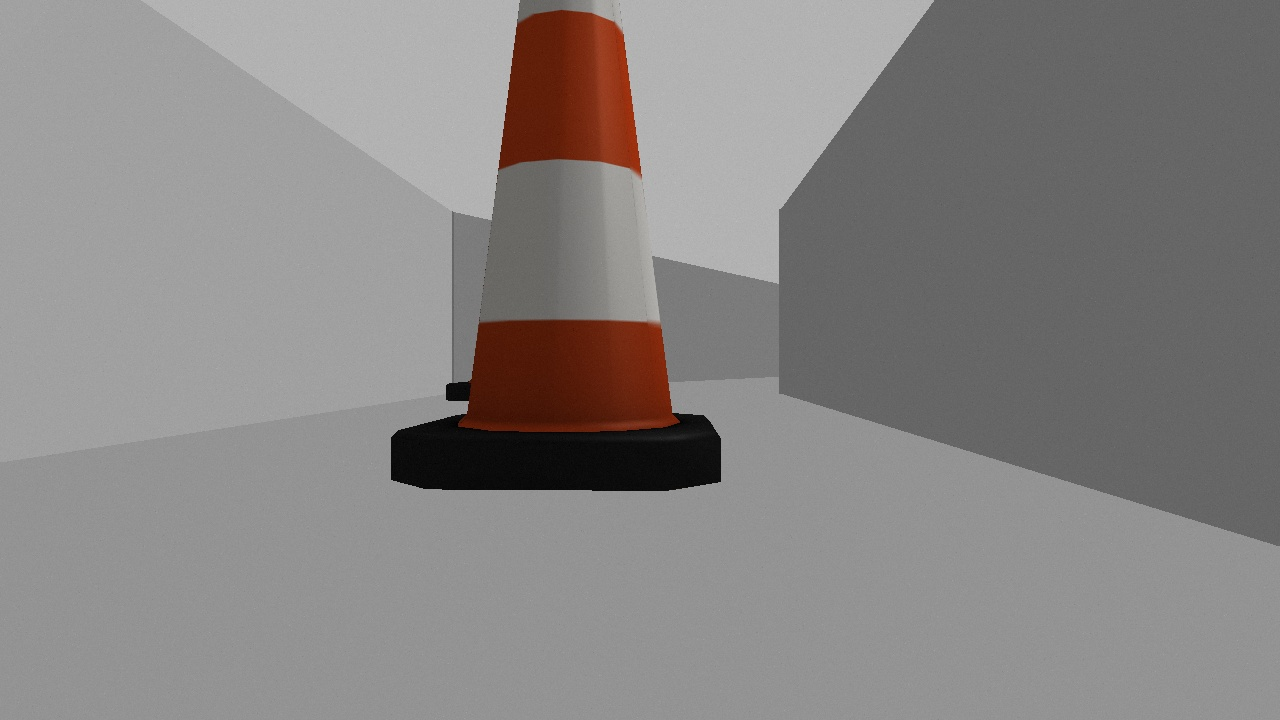barricade: (387, 1, 721, 489)
